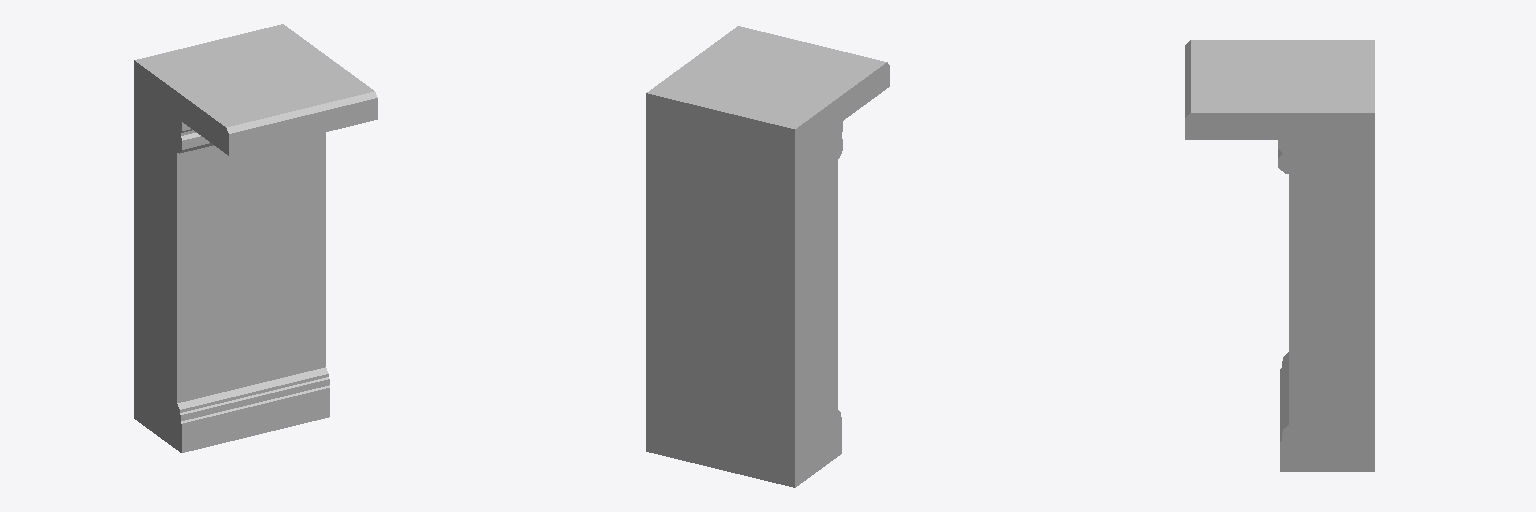
Rendered from Structure_Kitchen_Bar_Half.obj.
3 views of the same model, side by side, from view 1: azimuth 30°, elevation 25°; view 2: azimuth 150°, elevation 25°; view 3: azimuth 270°, elevation 25° (orthographic).
Parts seen in each view (by area): view 1: object1, object2, object4, object3; view 2: object1, object2, object4, object3; view 3: object1, object2, object4, object3.
Boxes of the visible parts, x1,y1,x2,y2 form: object1: [134, 87, 325, 448]; object2: [134, 24, 377, 155]; object4: [134, 367, 329, 452]; object3: [134, 88, 212, 153]; object1: [646, 120, 837, 487]; object2: [646, 26, 889, 155]; object4: [647, 408, 841, 486]; object3: [646, 121, 842, 188]; object1: [1289, 140, 1374, 471]; object2: [1185, 40, 1374, 139]; object4: [1280, 352, 1374, 471]; object3: [1278, 140, 1374, 173].
Bounding box in the file's own units: 0.5 × 1.15 × 0.55.